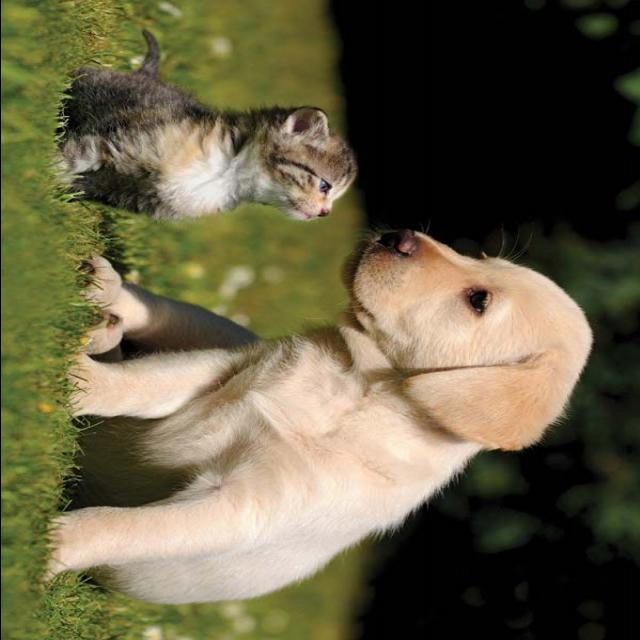dog: (35, 222, 591, 614), (33, 61, 358, 232)
